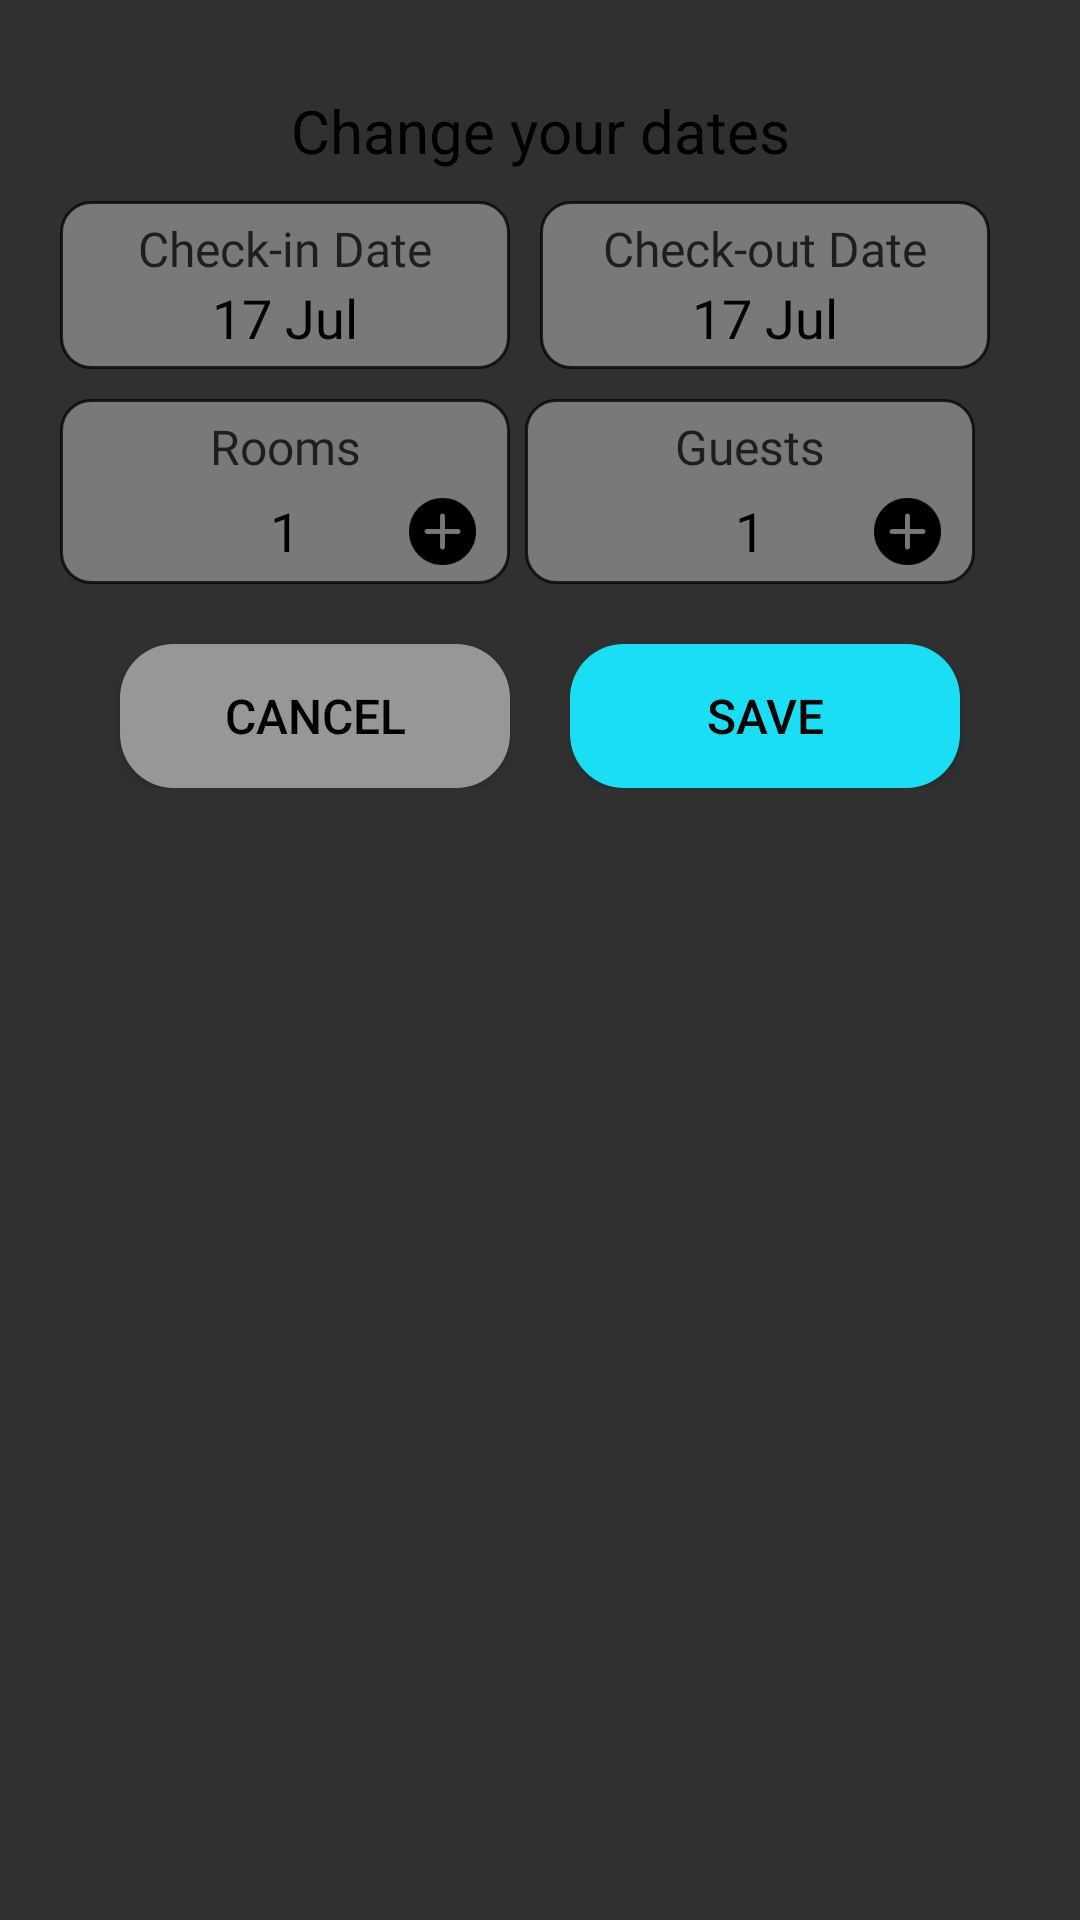

Icon click points for this 1080px x 1920px phone screenshot, format (x,y):
plus: (442,531), (907,531)
